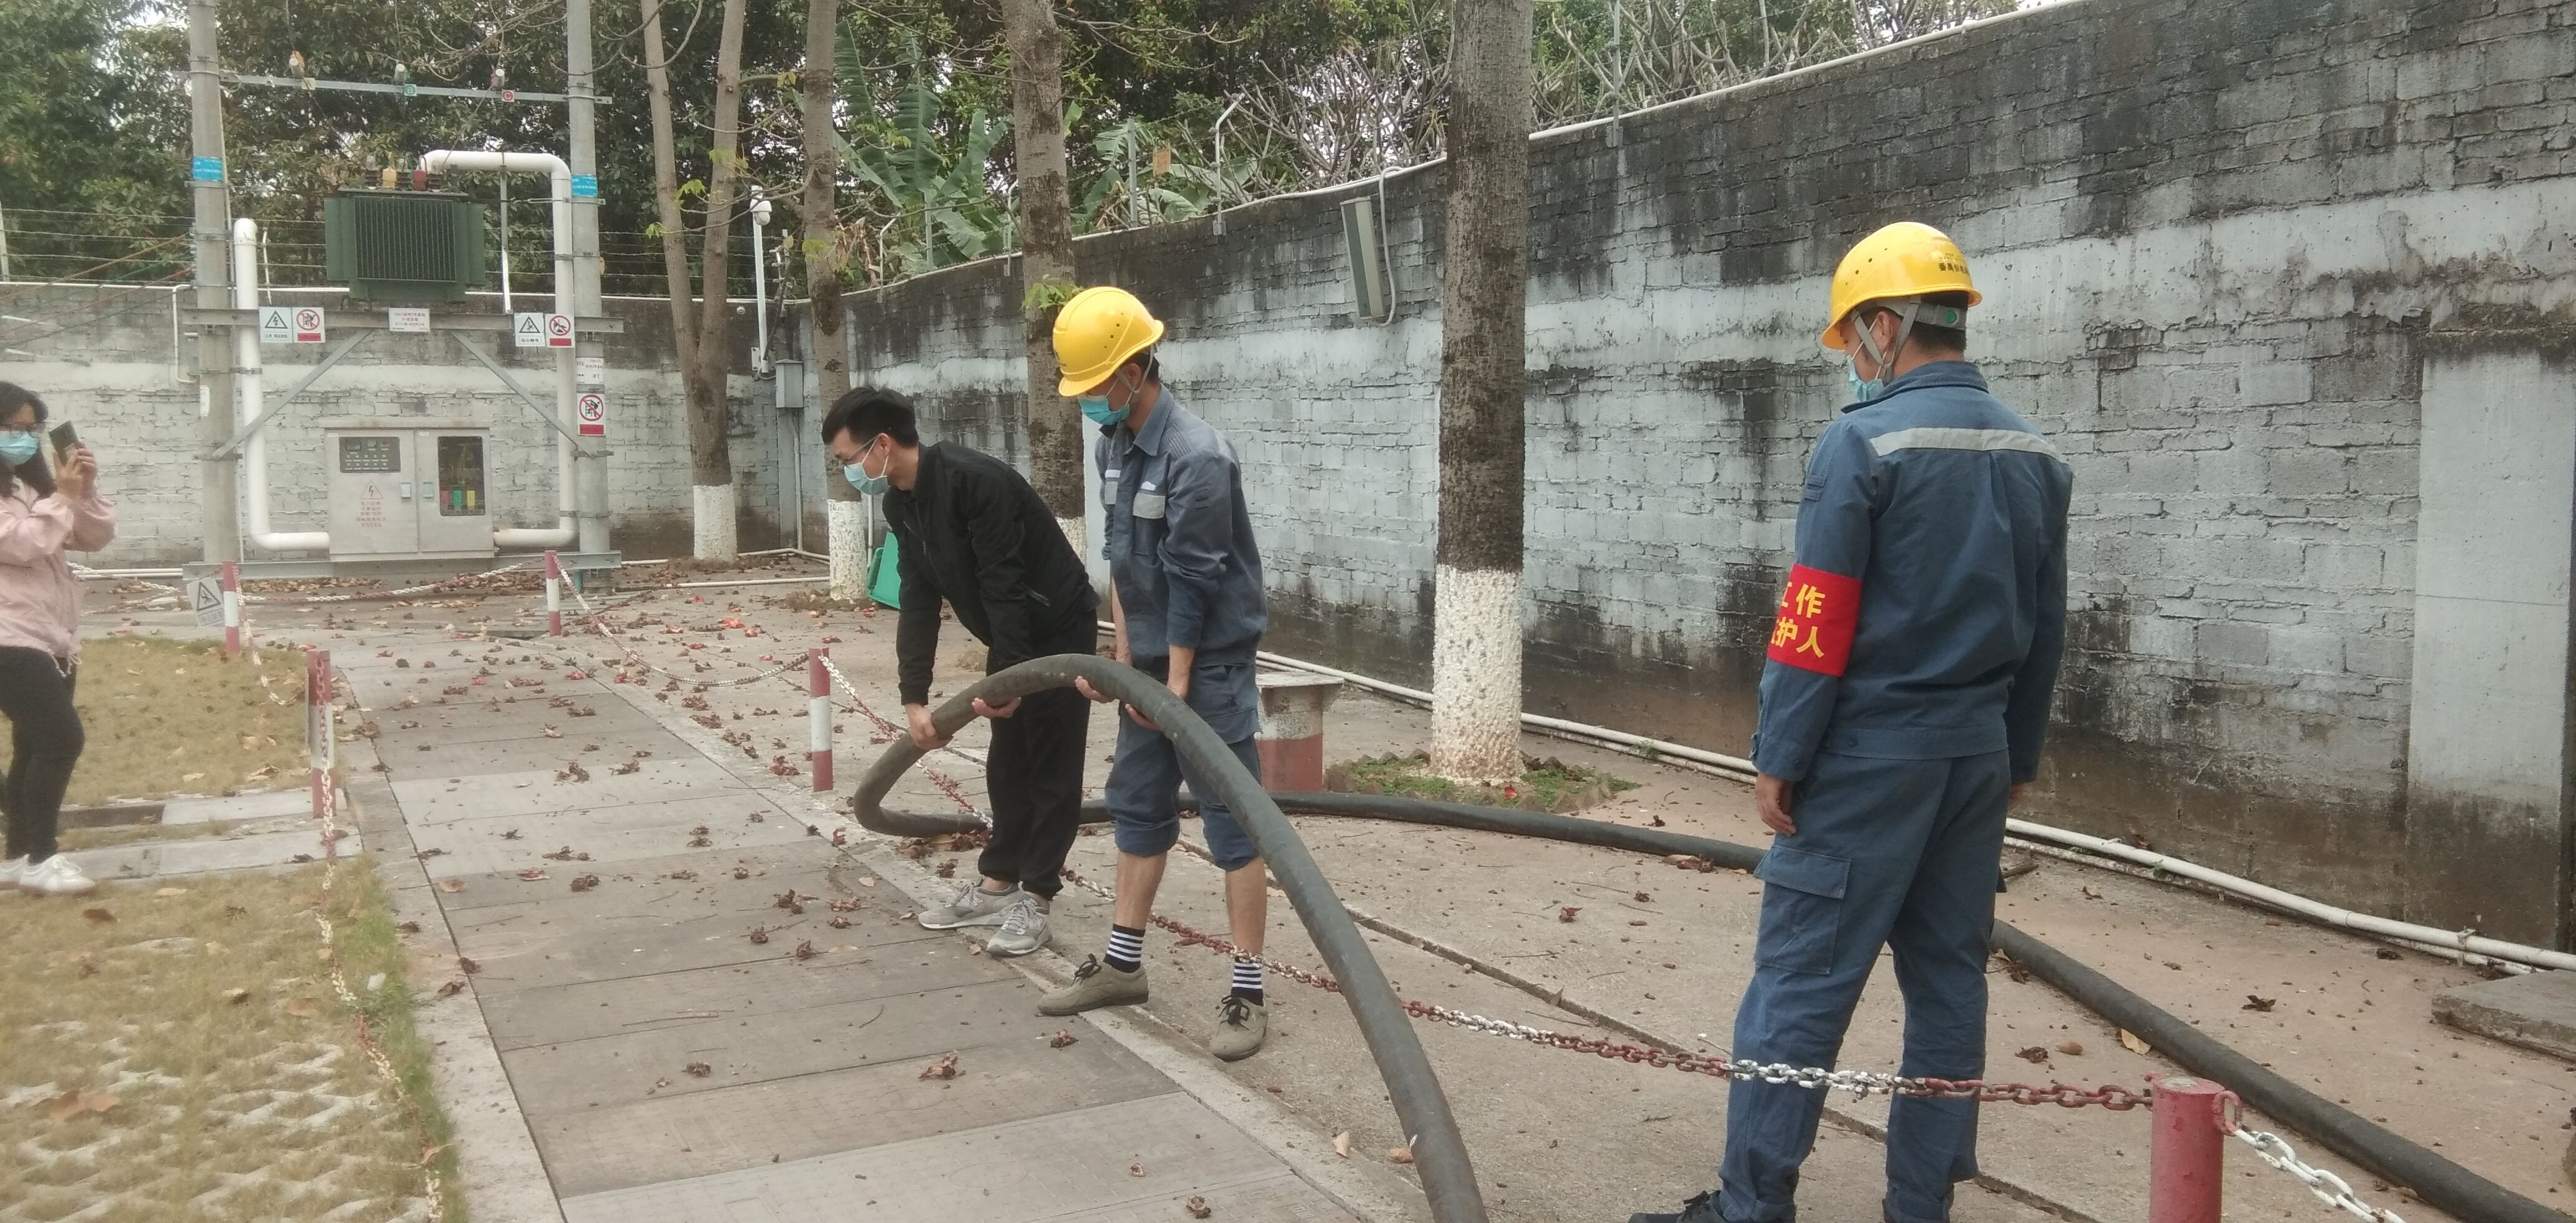downcloth: (974, 640, 1101, 898), (2, 652, 85, 863)
downsuit: (1705, 796, 2017, 1218), (1102, 668, 1283, 870)
upcloth: (881, 447, 1102, 645), (2, 471, 112, 647)
upsuit: (1750, 366, 2078, 765), (1099, 401, 1273, 663)
wrongbottom: (1102, 816, 1278, 993)
